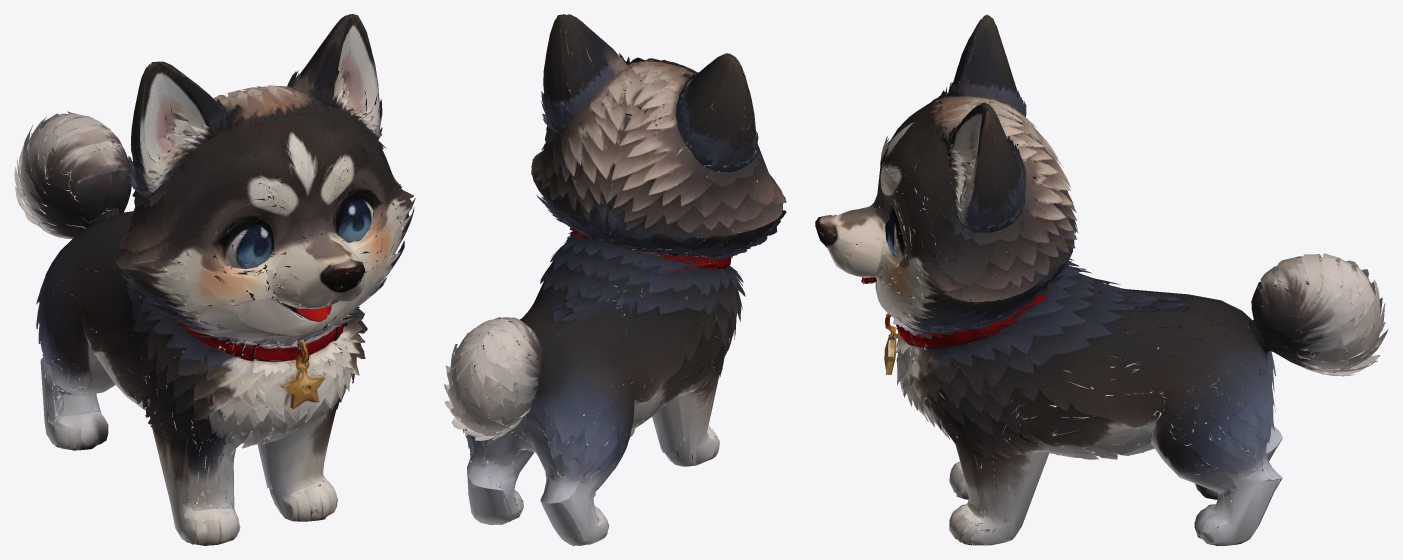
The model's file is pet-husky.glb.
3 views of the same model, side by side, from view 1: azimuth 30°, elevation 25°; view 2: azimuth 150°, elevation 25°; view 3: azimuth 270°, elevation 25° (orthographic). The views are drawn at different scales.
Parts seen in each view (by area): view 1: pet-husky; view 2: pet-husky; view 3: pet-husky.
Part boxes in pixels (x1,y1,x2,y2): pet-husky: [14, 14, 415, 545]; pet-husky: [444, 14, 786, 545]; pet-husky: [815, 14, 1388, 545].
Bounding box in the file's own units: 0.6286 × 1.02 × 1.16.
Materials: 1 (1 with a texture image).
